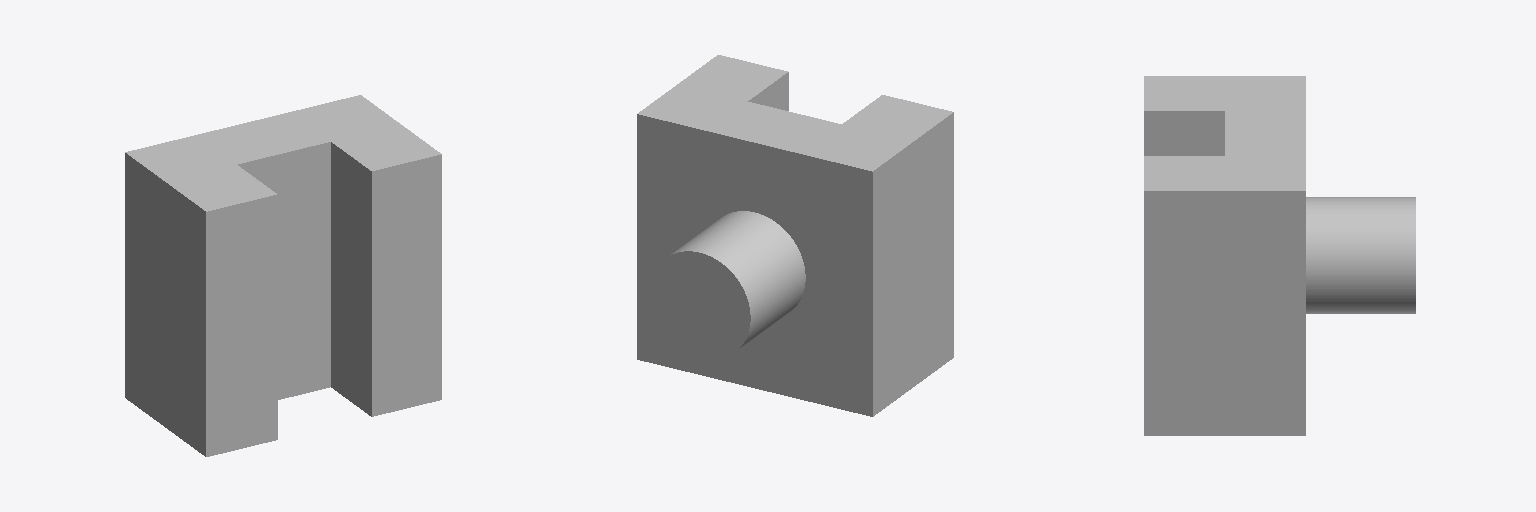
The picture shows the model from 3 angles: view 1: azimuth 30°, elevation 25°; view 2: azimuth 150°, elevation 25°; view 3: azimuth 270°, elevation 25°; orthographic projection.
Parts seen in each view (by area): view 1: Cut_Extrude1; view 2: Cut_Extrude1; view 3: Cut_Extrude1.
Part boxes in pixels (bbox=[...]): Cut_Extrude1: bbox=[125, 95, 441, 456]; Cut_Extrude1: bbox=[637, 55, 953, 416]; Cut_Extrude1: bbox=[1144, 76, 1415, 435].
Bounding box in the file's own units: 5.02 × 5 × 5.03.